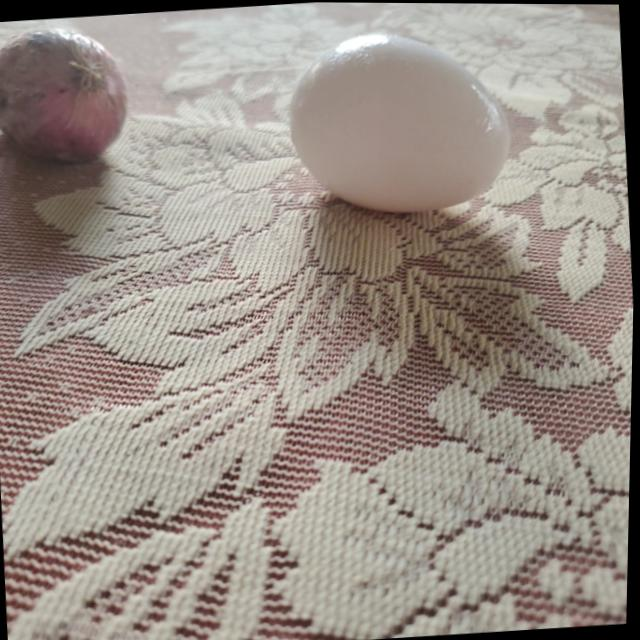egg: (286, 26, 513, 217)
onion: (0, 17, 134, 168)
